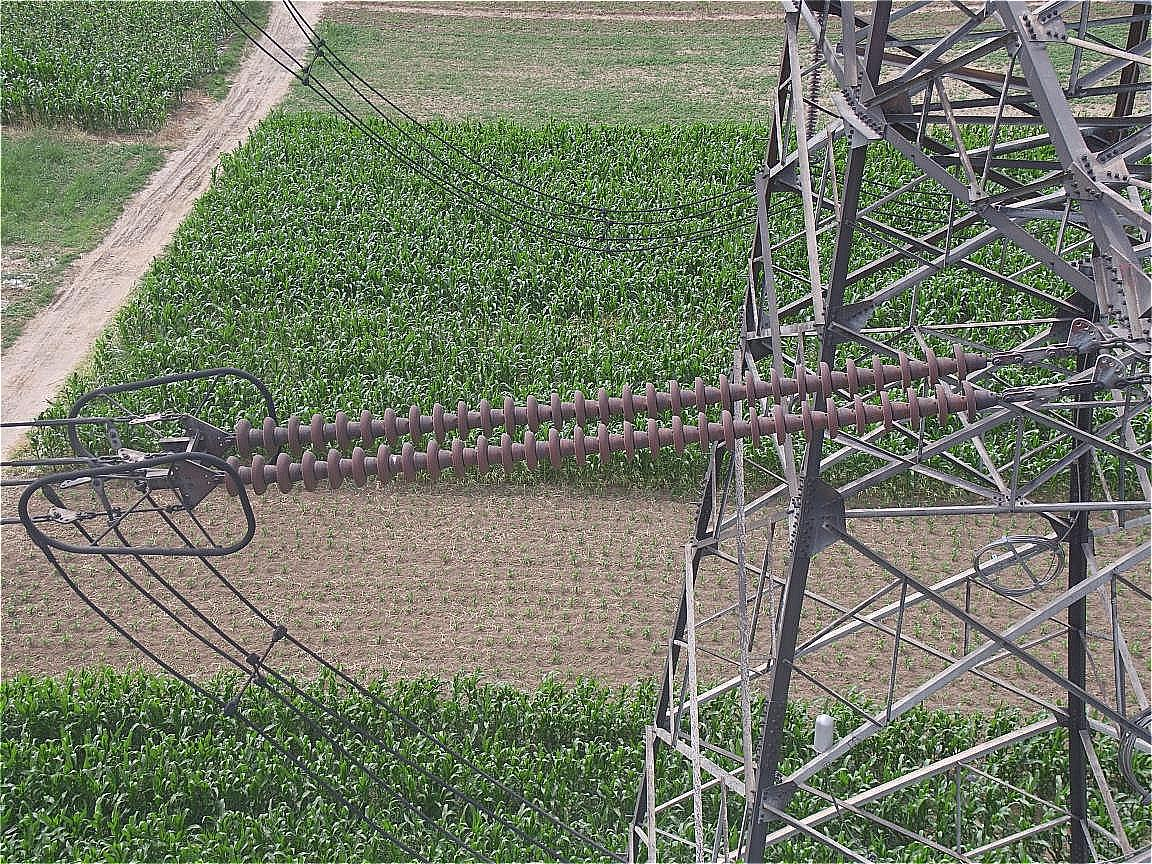insultor1: (222, 347, 978, 497)
